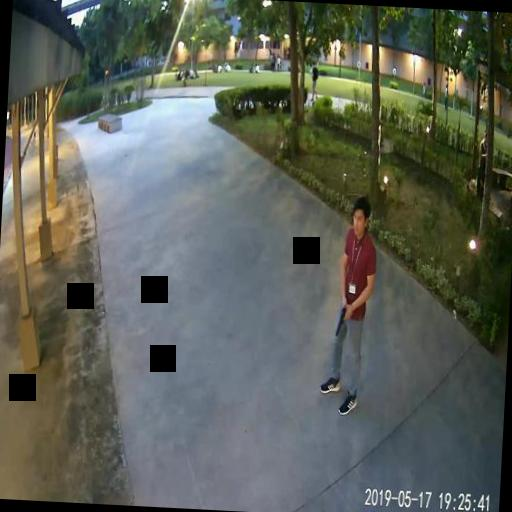Handgun: (334, 304, 349, 336)
